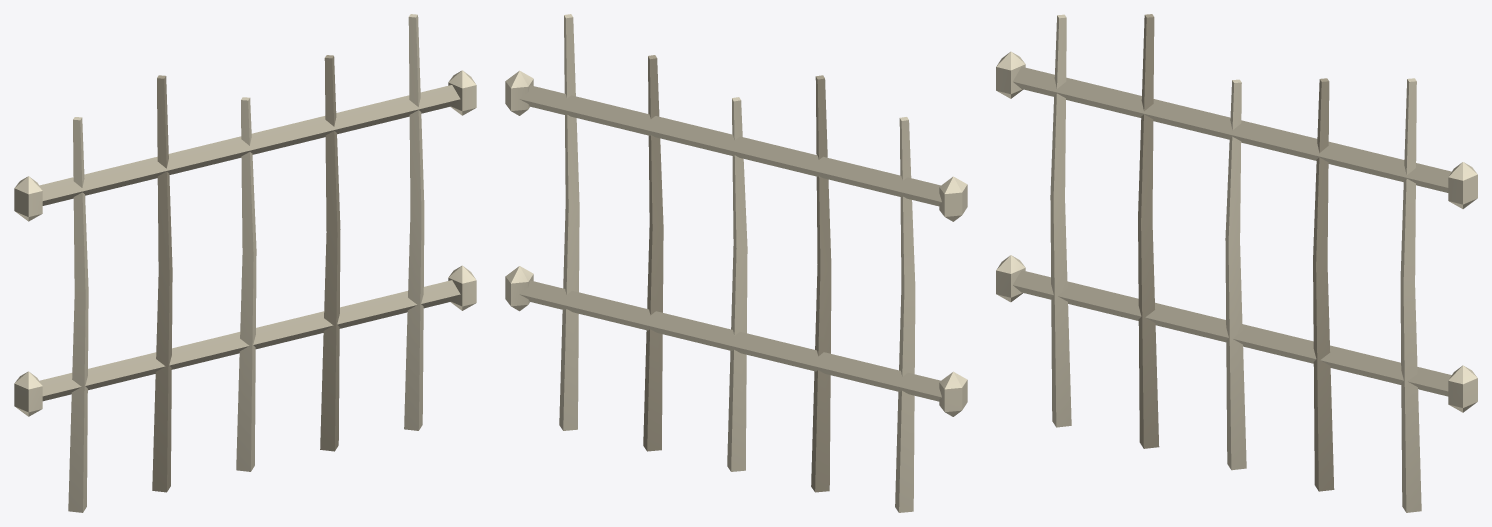
The model's file is fence_bone_run.glb.
The picture shows the model from 3 angles, left to right: view 1: azimuth 30°, elevation 25°; view 2: azimuth 150°, elevation 25°; view 3: azimuth 330°, elevation 25°; orthographic projection. The views are drawn at different scales.
Visible parts, largest first — view 1: fence_bone_run; view 2: fence_bone_run; view 3: fence_bone_run.
Boxes of the visible parts, <box> form: fence_bone_run: <box>14,14,476,512</box>; fence_bone_run: <box>505,14,967,512</box>; fence_bone_run: <box>996,14,1477,512</box>.
Bounding box in the file's own units: 0.9793 × 0.8435 × 0.0624.
